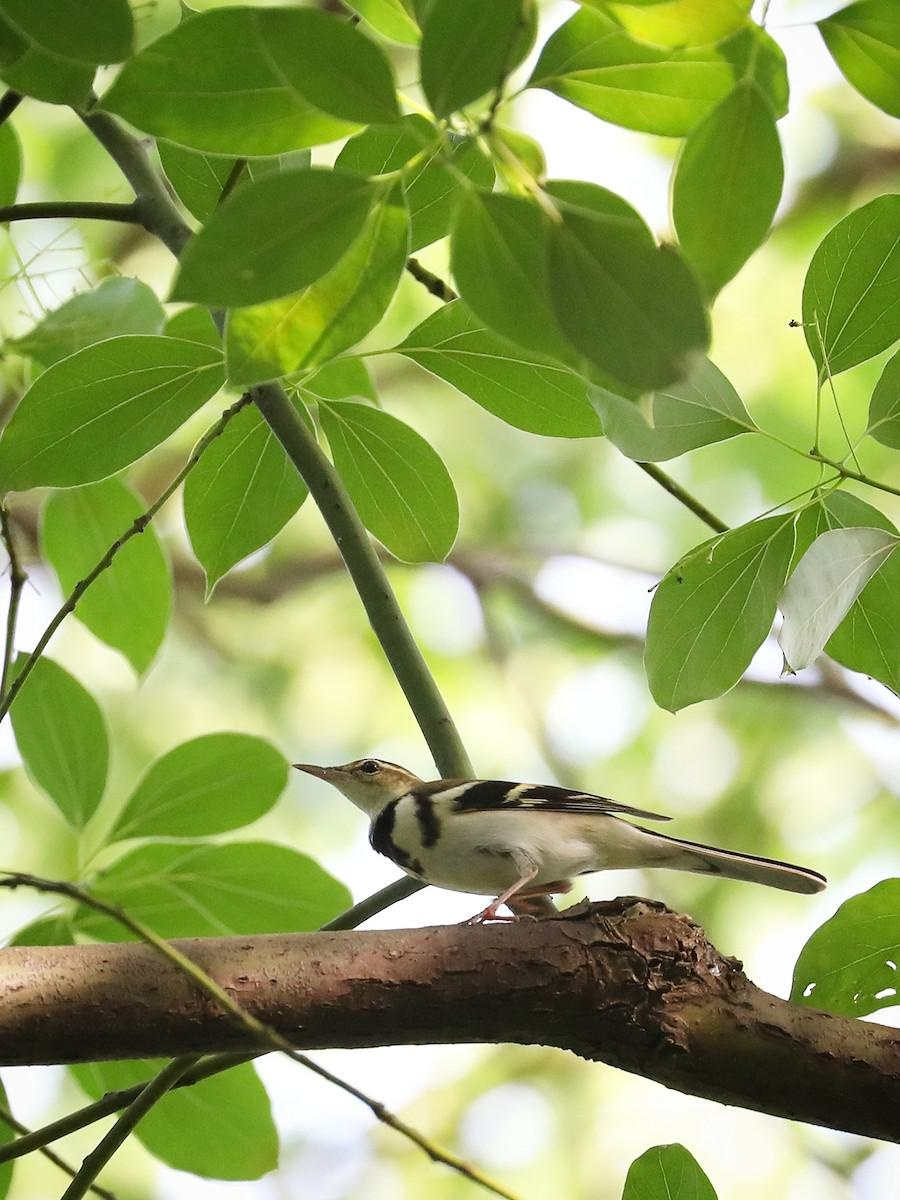wagtail: (259, 724, 833, 964)
